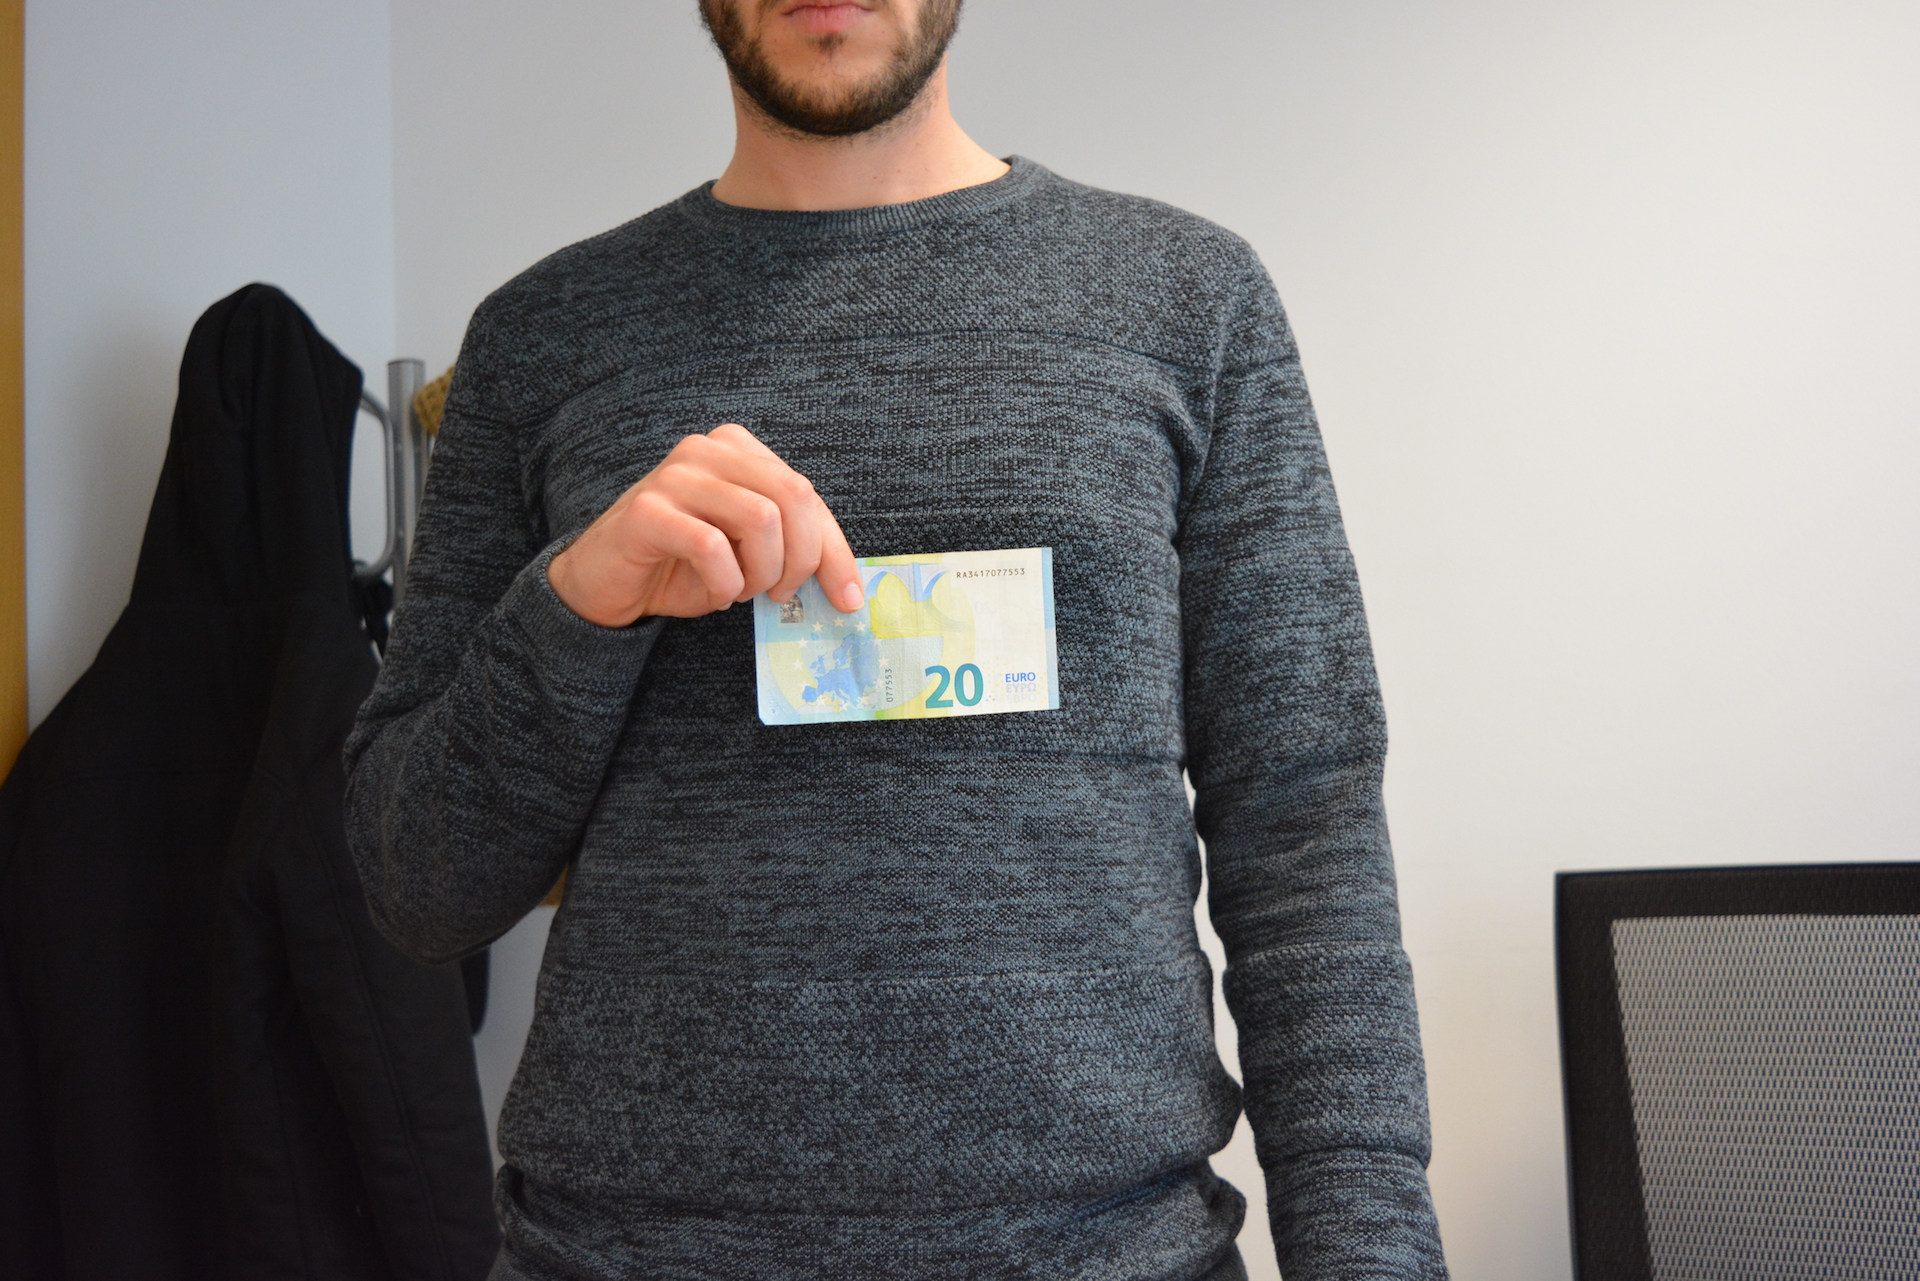billete: (752, 546, 1062, 726)
